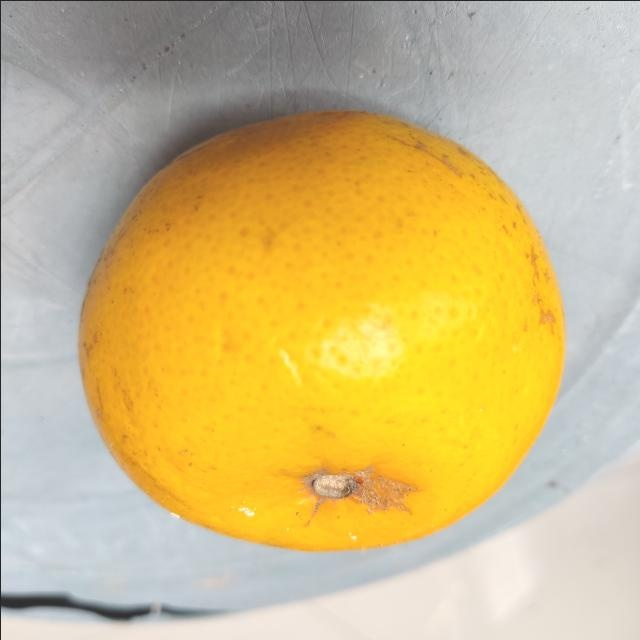agrume: (75, 104, 565, 552)
